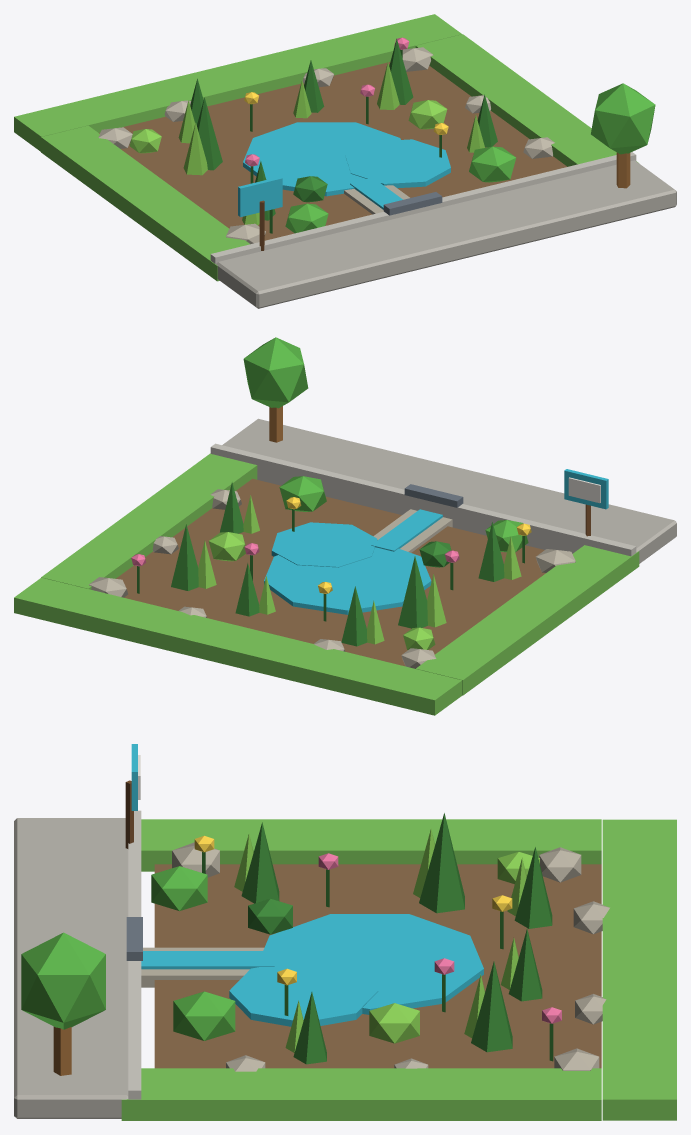
File: rain_garden.glb
3 views of the same model, one above another, from view 1: azimuth 30°, elevation 25°; view 2: azimuth 150°, elevation 25°; view 3: azimuth 270°, elevation 25° (orthographic). The views are drawn at different scales.
Parts seen in each view (by area): view 1: corpo; view 2: corpo; view 3: corpo.
Part boxes in pixels (box(x1,y1,x2,y2)): corpo: box(14, 14, 676, 308); corpo: box(14, 337, 676, 715); corpo: box(14, 744, 676, 1120).
Bounding box in the file's own units: 4.01 × 1.1 × 4.01.
